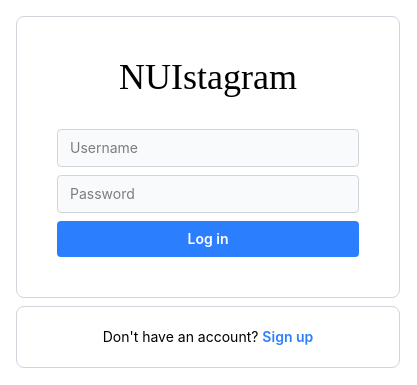
Login › should show loading state during login
In the field with placeholder "Username": [208, 148] box [57,129,359,167], type "testuser"
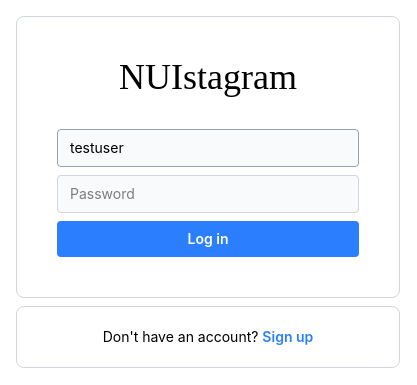
In the password field with placeholder "Password": [208, 194] box [57,175,359,213], type "Password123"
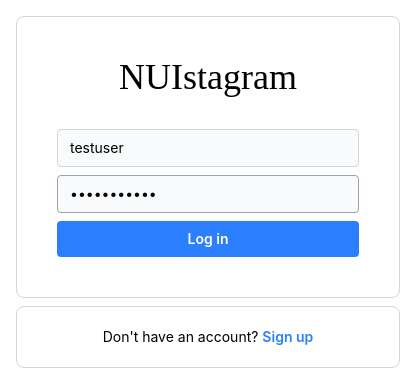
Click the button "Log in": [208, 239] box [57,221,359,257]
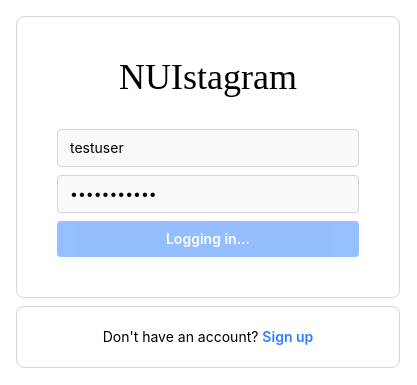
Expected: the button "Logging in..." is disabled, [57,221,359,257]
